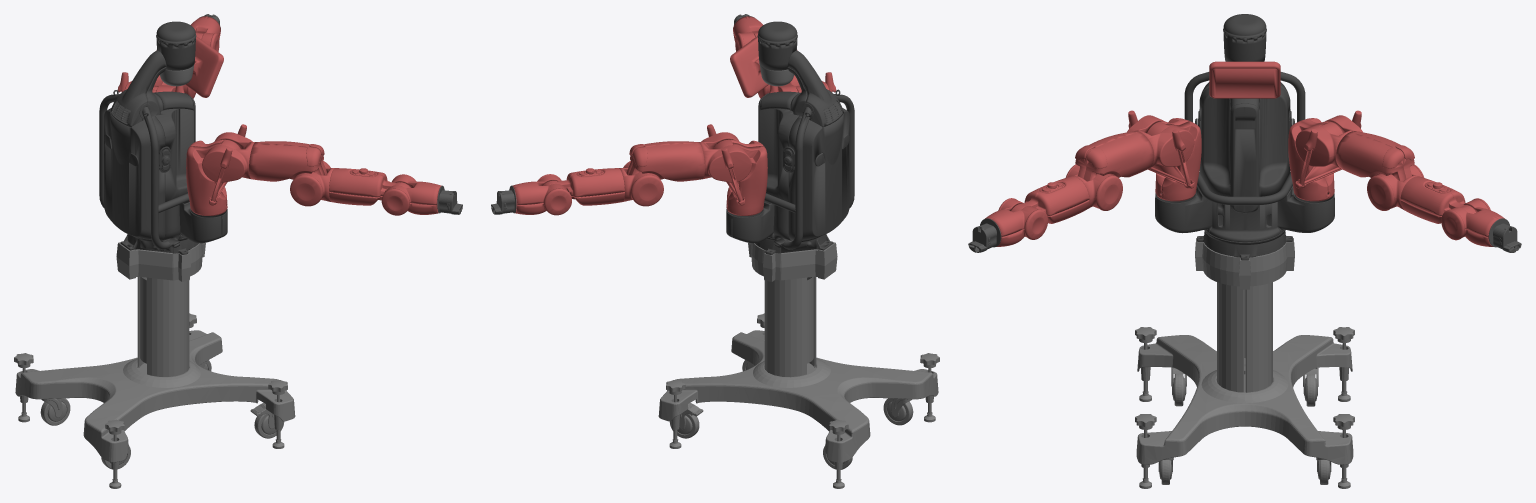
File: baxter_dual_arm_robot.glb
The picture shows the model from 3 angles, left to right: view 1: azimuth 30°, elevation 25°; view 2: azimuth 150°, elevation 25°; view 3: azimuth 270°, elevation 25°; orthographic projection. The views are drawn at different scales.
Parts seen in each view (by area): view 1: pedestal, torso, right_upper_elbow, right_upper_shoulder, right_upper_forearm, right_lower_forearm, right_lower_shoulder, screen, right_lower_elbow, left_lower_forearm, right_wrist, head; view 2: pedestal, torso, left_upper_elbow, left_upper_shoulder, left_upper_forearm, left_lower_forearm, left_lower_shoulder, screen, left_lower_elbow, right_lower_forearm, left_wrist, head; view 3: pedestal, torso, left_upper_elbow, right_upper_elbow, right_upper_shoulder, left_upper_shoulder, screen, left_upper_forearm, right_upper_forearm, left_lower_forearm, right_lower_forearm, right_lower_shoulder (+5 smaller).
Part boxes in pixels (left/top/right/bottom): pedestal: left=14, top=242, right=295, bottom=488; torso: left=99, top=21, right=227, bottom=254; right_upper_elbow: left=249, top=141, right=327, bottom=181; right_upper_shoulder: left=186, top=124, right=246, bottom=215; right_upper_forearm: left=329, top=168, right=410, bottom=205; right_lower_forearm: left=381, top=174, right=441, bottom=215; right_lower_shoulder: left=202, top=132, right=254, bottom=182; screen: left=185, top=36, right=223, bottom=97; right_lower_elbow: left=290, top=161, right=334, bottom=206; left_lower_forearm: left=191, top=16, right=220, bottom=51; right_wrist: left=437, top=185, right=462, bottom=214; head: left=160, top=65, right=193, bottom=86; pedestal: left=658, top=242, right=939, bottom=488; torso: left=726, top=21, right=854, bottom=254; left_upper_elbow: left=626, top=141, right=704, bottom=181; left_upper_shoulder: left=707, top=124, right=767, bottom=215; left_upper_forearm: left=543, top=168, right=624, bottom=205; left_lower_forearm: left=512, top=174, right=571, bottom=215; left_lower_shoulder: left=699, top=132, right=751, bottom=182; screen: left=730, top=36, right=768, bottom=97; left_lower_elbow: left=619, top=161, right=663, bottom=206; right_lower_forearm: left=733, top=16, right=762, bottom=51; left_wrist: left=491, top=185, right=516, bottom=214; head: left=760, top=65, right=793, bottom=86; pedestal: left=1135, top=238, right=1354, bottom=488; torso: left=1155, top=14, right=1334, bottom=260; left_upper_elbow: left=1335, top=131, right=1414, bottom=181; right_upper_elbow: left=1075, top=131, right=1154, bottom=181; right_upper_shoulder: left=1128, top=110, right=1201, bottom=201; left_upper_shoulder: left=1288, top=110, right=1361, bottom=201; screen: left=1209, top=61, right=1280, bottom=98; left_upper_forearm: left=1400, top=176, right=1476, bottom=223; right_upper_forearm: left=1011, top=176, right=1089, bottom=223; left_lower_forearm: left=1441, top=198, right=1504, bottom=246; right_lower_forearm: left=985, top=198, right=1047, bottom=246; right_lower_shoulder: left=1127, top=115, right=1194, bottom=168.
Bounding box in the file's own units: 1.34 × 1.8 × 2.07.
